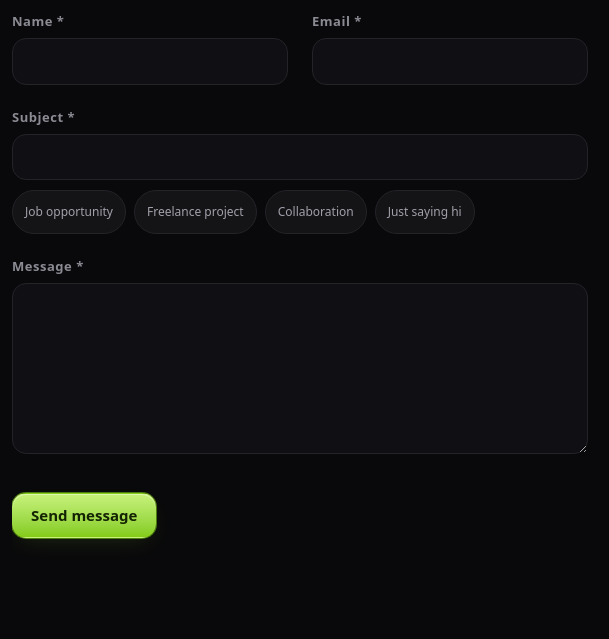
Test: ContactForm › submits valid data, shows success, and clears the form
Type "Jane Doe" into the field labelled "Name *" at (150, 61), box [12,38,288,85]
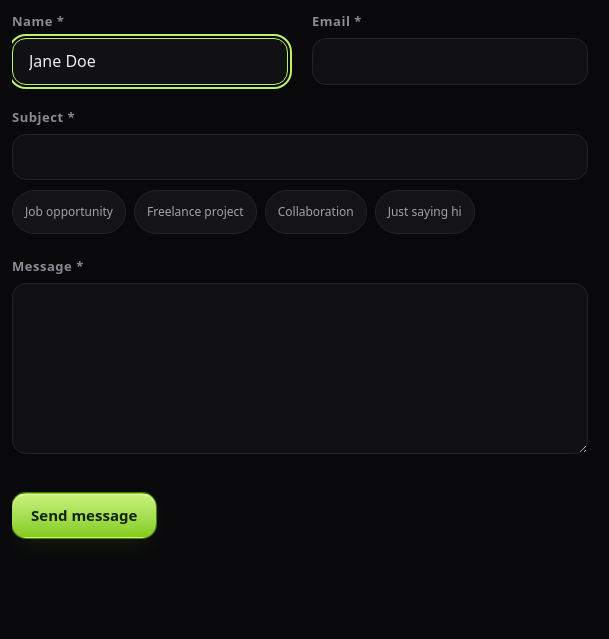
Type "jane@example.com" into the field labelled "Email *" at (450, 61), box [312,38,588,85]
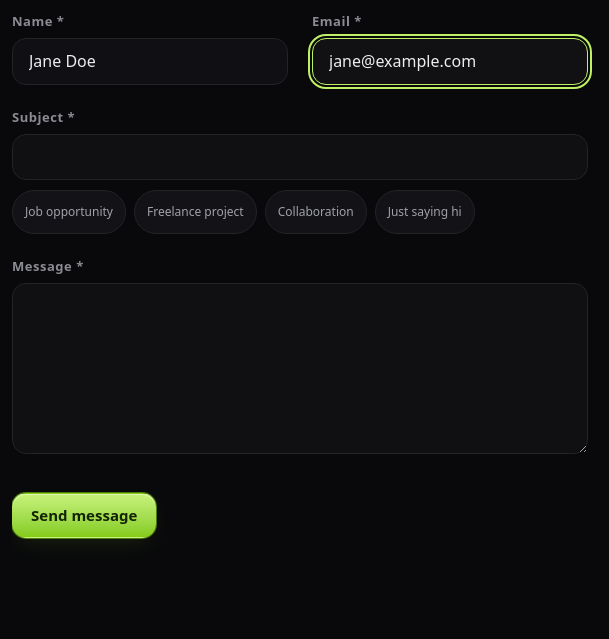
Type "Project inquiry" into the field labelled "Subject *" at (300, 157), box [12,134,588,180]
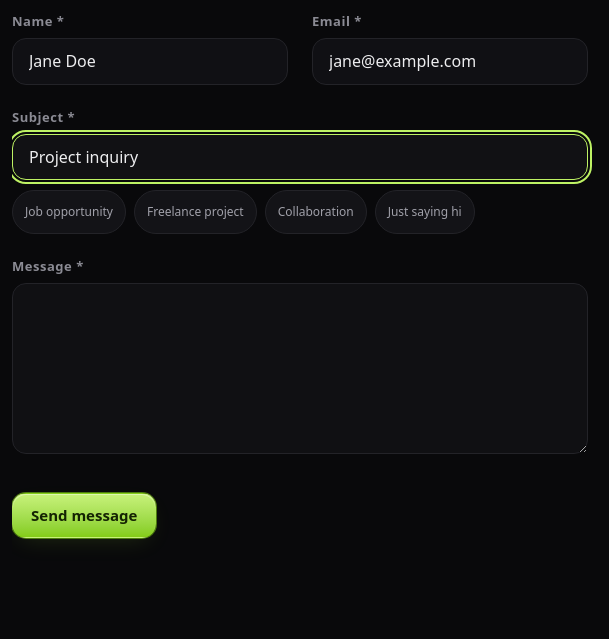
Type "I would love to discuss a frontend role with you." into the text box labelled "Message *" at (300, 369), box [12,283,588,454]
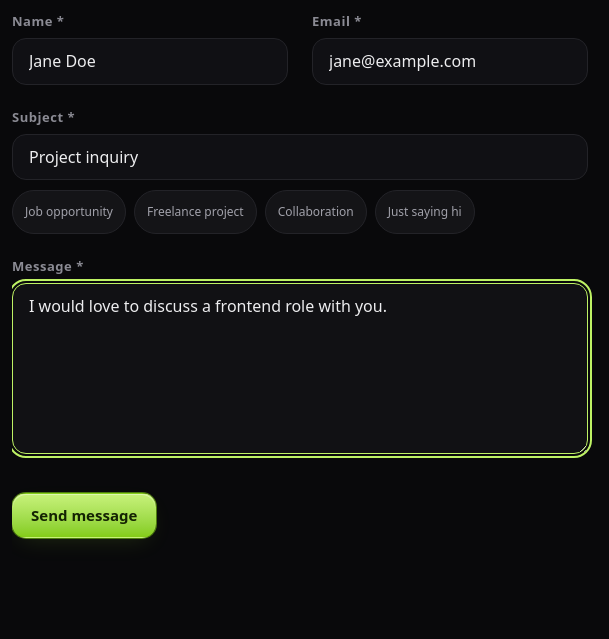
Click the button "Send message" at (84, 515), box [12,493,156,538]
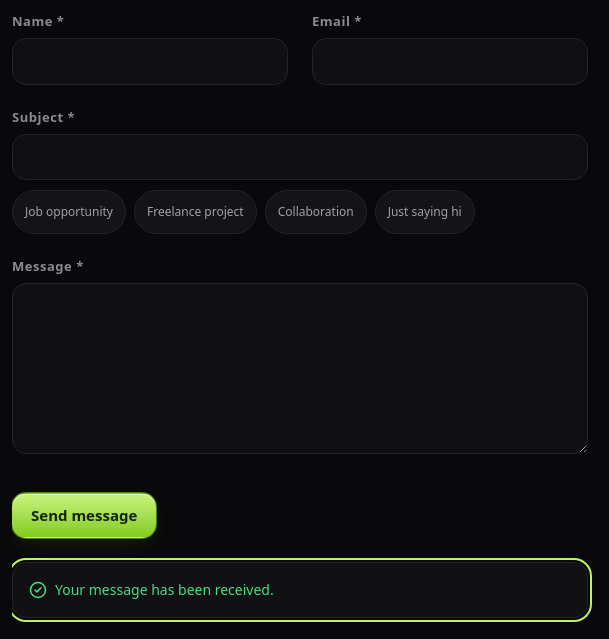
Now the text "Your message has been received." is shown, box [55,579,274,601]
Now the field labelled "Name *" is empty, box [12,38,288,85]
Now the text box labelled "Message *" is empty, box [12,283,588,454]
